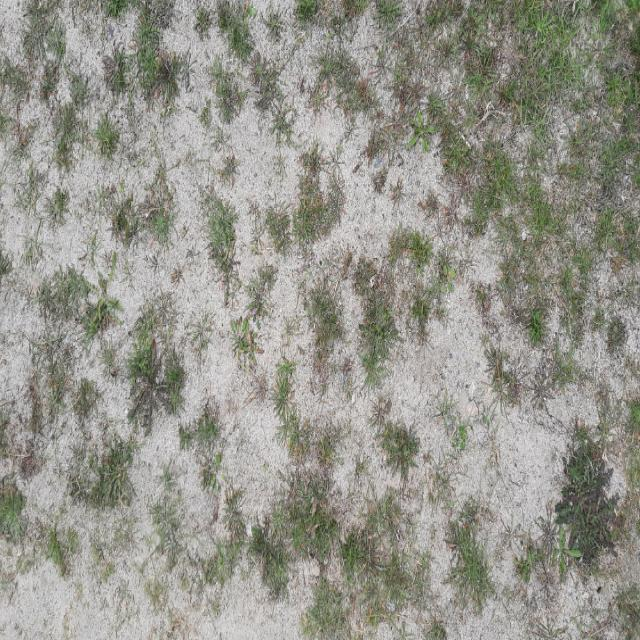grass: (195, 0, 639, 623), (0, 0, 193, 271), (515, 421, 625, 580), (37, 250, 120, 418), (68, 379, 137, 507), (126, 291, 186, 434), (428, 469, 490, 607), (230, 260, 278, 398), (200, 153, 239, 305), (179, 400, 220, 525), (203, 485, 245, 584), (481, 330, 520, 402), (0, 480, 24, 535), (617, 587, 639, 624), (624, 393, 639, 444), (47, 188, 68, 223)
white-sand: (0, 0, 639, 639), (0, 409, 319, 638), (259, 251, 399, 518), (340, 6, 398, 109)
